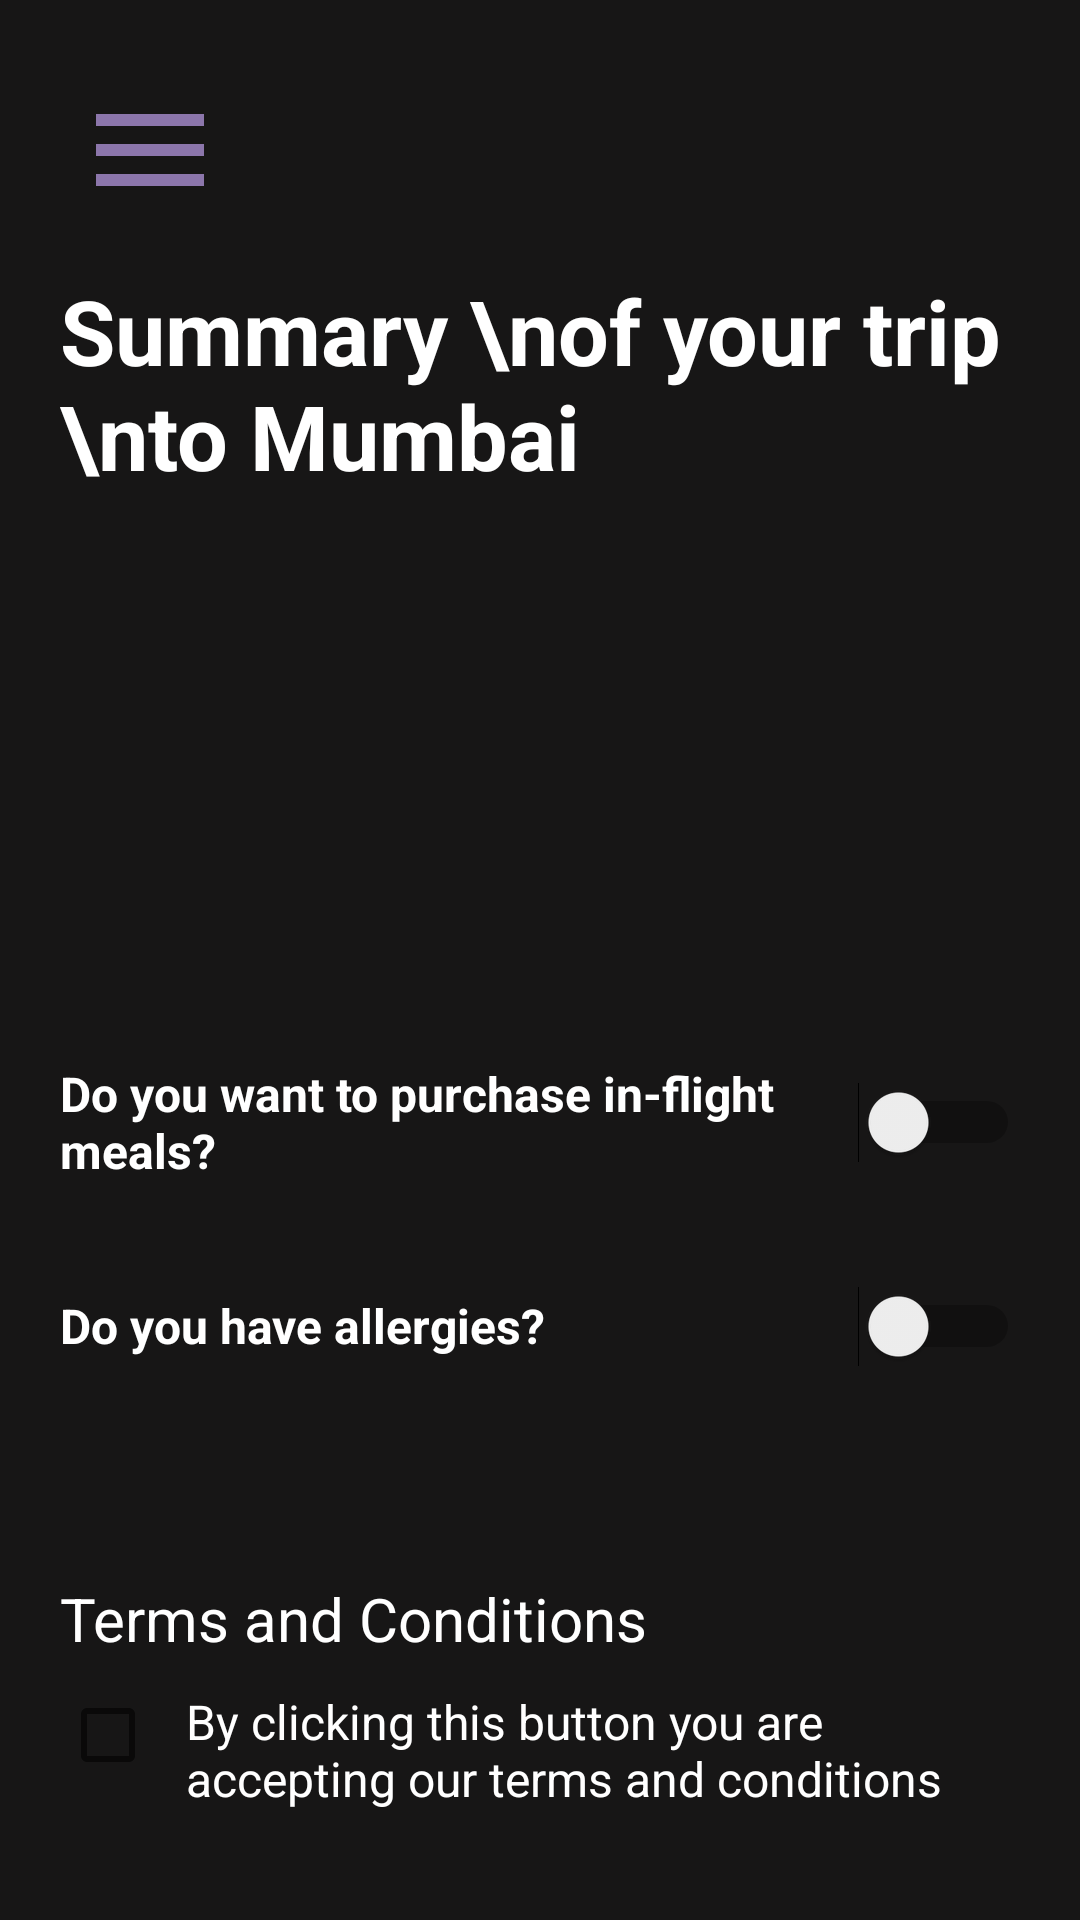

Screen size 1080px x 1920px. Icon name, then its box in pixels as (x1,y1,x2,y2):
menu: (96,114,204,186)
